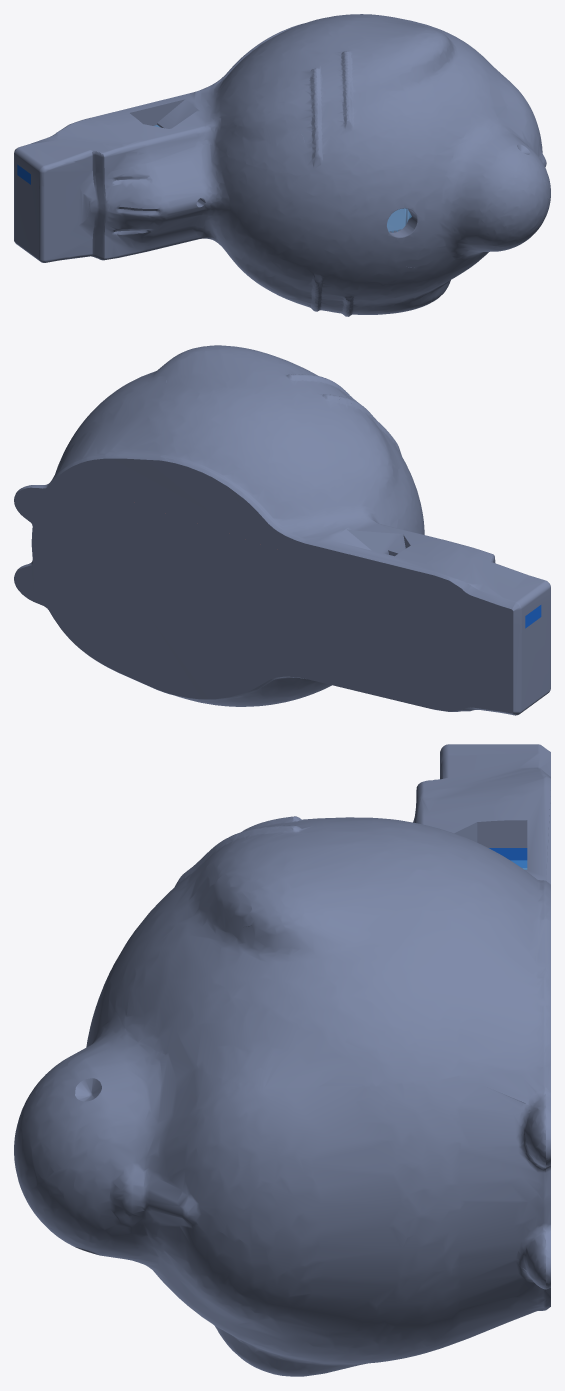
File: whistle.glb
3 views of the same model, one above another, from view 1: azimuth 30°, elevation 25°; view 2: azimuth 150°, elevation 25°; view 3: azimuth 270°, elevation 25° (orthographic). The views are drawn at different scales.
Visible parts, largest first — view 1: right__shell, left__shell, air__chamber; view 2: right__shell, left__shell; view 3: right__shell, left__shell.
Part boxes in pixels (box(x1,y1,x2,y2)): right__shell: box(14, 81, 550, 316); left__shell: box(14, 14, 515, 186); air__chamber: box(154, 125, 411, 232); right__shell: box(14, 437, 550, 715); left__shell: box(56, 345, 550, 626); right__shell: box(14, 868, 550, 1376); left__shell: box(107, 744, 550, 1087).
Bounding box in the file's own units: 118 × 67.66 × 67.7.
